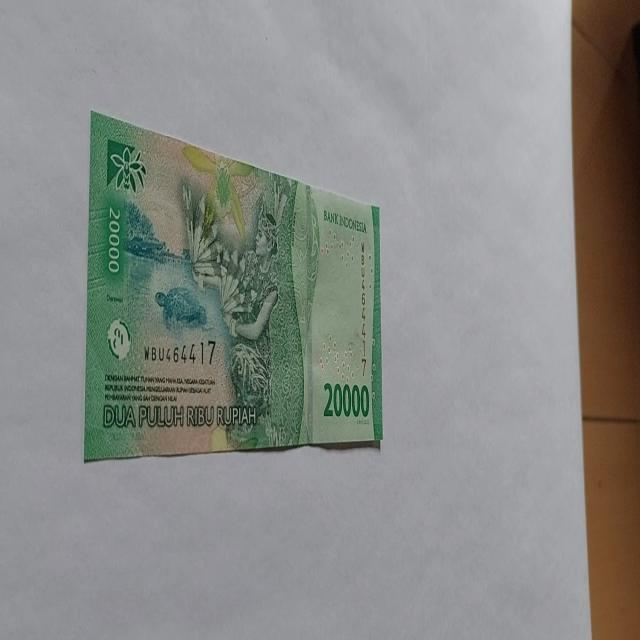dua puluh ribu rupiah: (84, 110, 384, 462), (179, 165, 318, 450)
